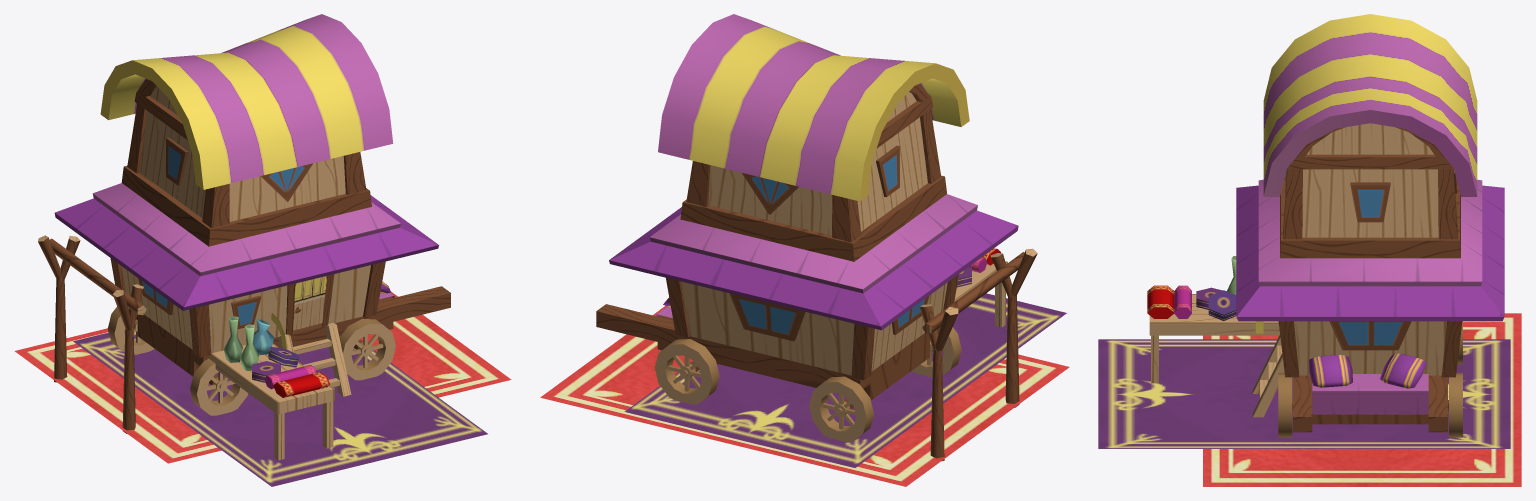
File: building_Accessories_lv4.FBX
The picture shows the model from 3 angles, left to right: view 1: azimuth 30°, elevation 25°; view 2: azimuth 150°, elevation 25°; view 3: azimuth 270°, elevation 25°; orthographic projection. The views are drawn at different scales.
Parts seen in each view (by area): view 1: building_Accessories_roof_lv4, building_Accessories_etc02_lv4, building_Accessories_etc01_lv4, building_Accessories_lv4; view 2: building_Accessories_roof_lv4, building_Accessories_etc01_lv4, building_Accessories_etc02_lv4, building_Accessories_lv4; view 3: building_Accessories_roof_lv4, building_Accessories_etc02_lv4, building_Accessories_etc01_lv4, building_Accessories_lv4.
Part boxes in pixels (bbox=[...]): building_Accessories_roof_lv4: bbox=[54, 14, 438, 310]; building_Accessories_etc02_lv4: bbox=[14, 291, 511, 486]; building_Accessories_etc01_lv4: bbox=[38, 79, 450, 460]; building_Accessories_lv4: bbox=[121, 87, 370, 353]; building_Accessories_roof_lv4: bbox=[609, 14, 1018, 330]; building_Accessories_etc01_lv4: bbox=[596, 83, 1037, 461]; building_Accessories_etc02_lv4: bbox=[540, 248, 1069, 486]; building_Accessories_lv4: bbox=[681, 92, 947, 375]; building_Accessories_roof_lv4: bbox=[1236, 14, 1504, 321]; building_Accessories_etc02_lv4: bbox=[1098, 256, 1521, 486]; building_Accessories_etc01_lv4: bbox=[1149, 127, 1462, 437]; building_Accessories_lv4: bbox=[1294, 123, 1446, 375].
Size of the model in its own units: 542 by 471 by 538.
